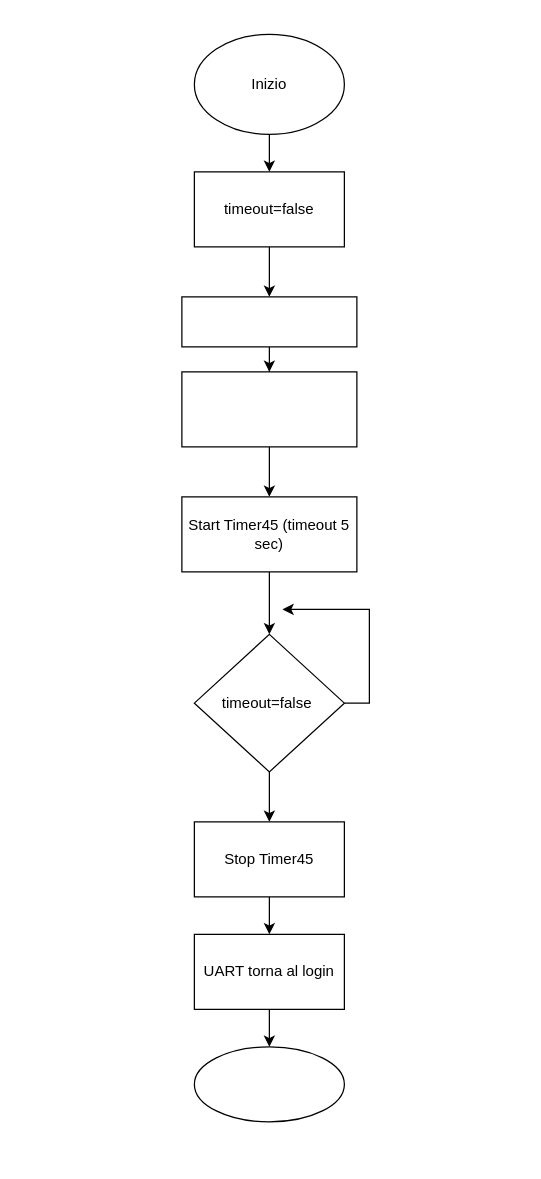
Image size: 541x1179. Some labels were removed from this diagram. The box of each missing label's shape, as (x1, y1, x2, y2) in pixels:
Configura Accellerometro: (181, 371, 357, 447)
Fine: (193, 1046, 344, 1122)
RGB_Led="Red": (181, 296, 357, 347)
